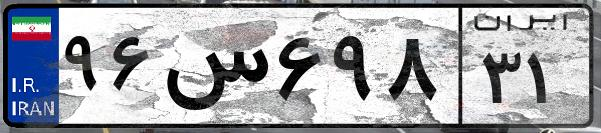1: (525, 38, 570, 115)
3: (475, 38, 525, 113)
6: (270, 28, 330, 110), (110, 28, 158, 98)
8: (385, 28, 445, 110)
9: (330, 28, 385, 110), (57, 26, 110, 100)
س: (158, 20, 270, 120)
